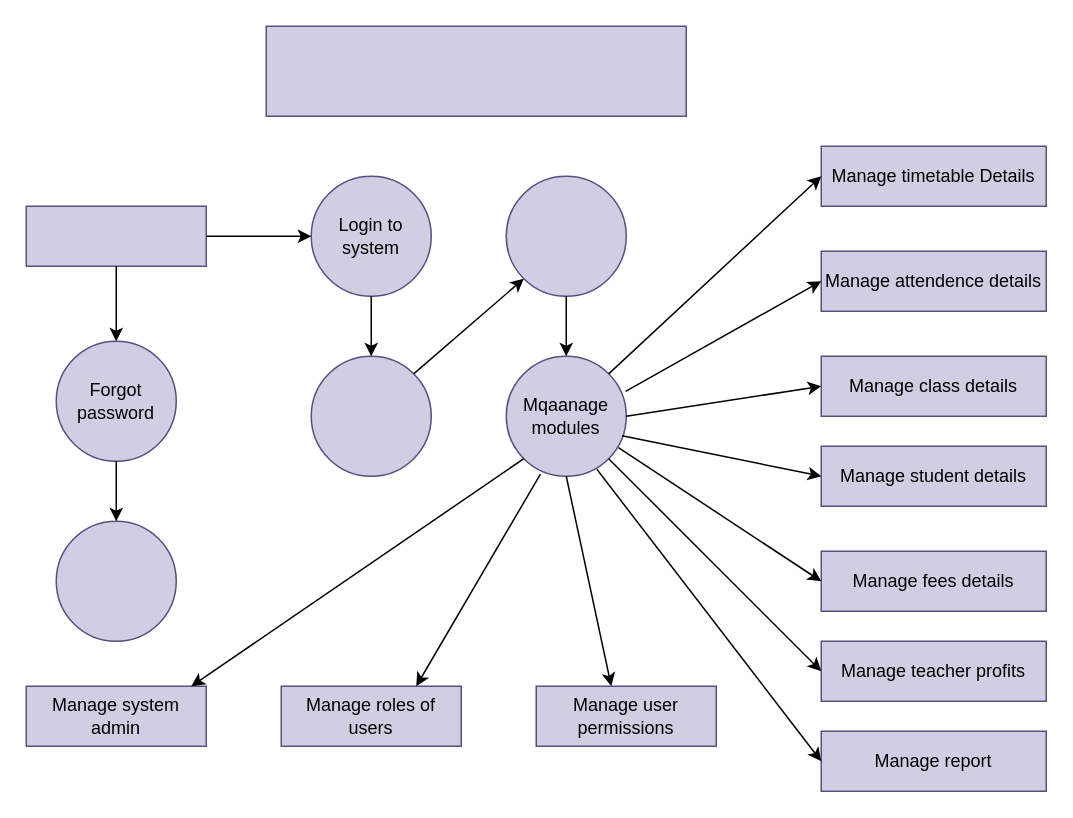
Image size: 1073x818. Some labels were removed from this diagram. The centre of each missing label's shape, as x and y in pixels:
Admin: pixel 115 235
Check credentials: pixel 370 415
Check rules of access: pixel 565 235
Send email to users: pixel 115 580
Student Information System: pixel 475 70
